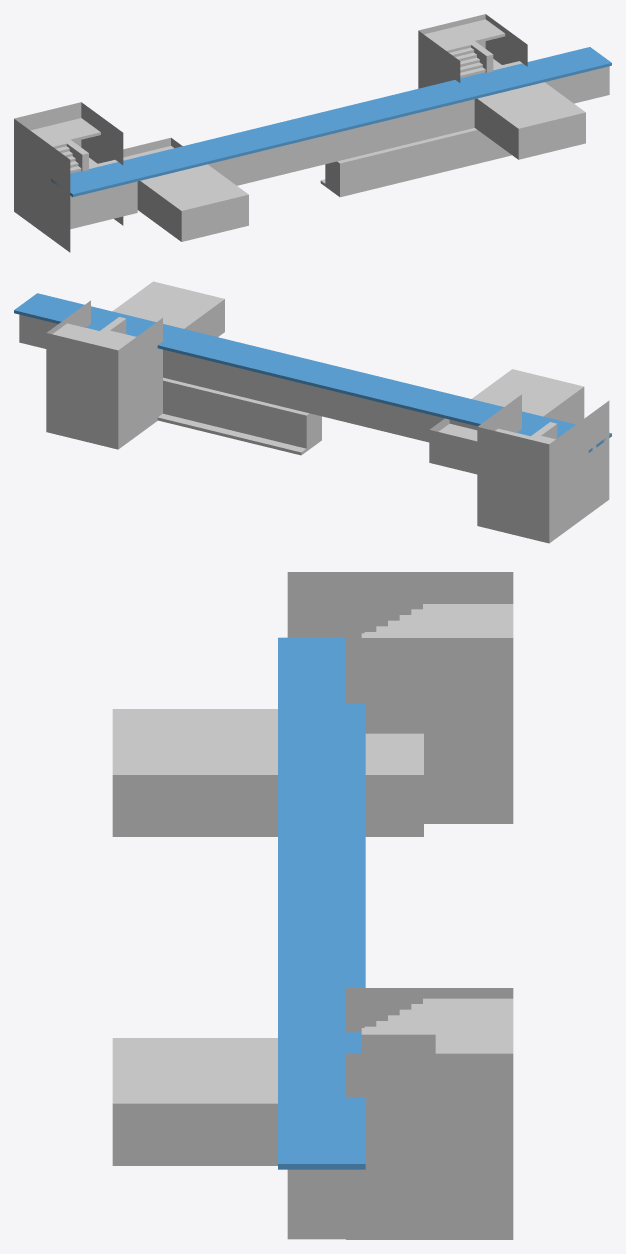
Rendered from School1.fbx.
3 renders of one model, top to bottom at view 1: azimuth 30°, elevation 25°; view 2: azimuth 150°, elevation 25°; view 3: azimuth 270°, elevation 25°, orthographic. The views are drawn at different scales.
Parts seen in each view (by area): view 1: Plane.009, Plane.023, Plane.014, Plane.002, Plane.019, Plane.017, Plane.024, Plane.027, Plane.020, Plane.021, Plane.029, Plane.018 (+10 smaller); view 2: Plane.023, Plane.024, Plane.009, Plane.022, Plane.028, Plane.021, Plane.020, Plane.035, Plane.013, Plane.012, Plane.025, Plane.019 (+6 smaller); view 3: Plane.009, Plane.023, Plane.024, Plane.020, Plane.021, Plane.016, Plane.002, Plane.012, Plane.035, Plane.025, Plane.010, Plane.036 (+3 smaller).
Part boxes in pixels (x1,y1,x2,y2): Plane.009: [51, 47, 611, 196]; Plane.023: [14, 102, 123, 252]; Plane.014: [272, 116, 407, 176]; Plane.002: [181, 148, 272, 241]; Plane.019: [70, 181, 181, 241]; Plane.017: [407, 98, 518, 159]; Plane.024: [418, 14, 527, 88]; Plane.027: [407, 130, 508, 177]; Plane.020: [140, 164, 248, 210]; Plane.021: [477, 82, 585, 128]; Plane.029: [325, 147, 407, 194]; Plane.018: [518, 112, 585, 159]; Plane.023: [477, 394, 609, 543]; Plane.024: [46, 300, 162, 449]; Plane.009: [14, 293, 611, 452]; Plane.022: [163, 349, 444, 442]; Plane.028: [163, 380, 306, 448]; Plane.021: [112, 281, 224, 328]; Plane.020: [472, 369, 583, 416]; Plane.035: [429, 418, 477, 473]; Plane.013: [157, 413, 321, 455]; Plane.012: [46, 323, 132, 350]; Plane.025: [19, 314, 57, 348]; Plane.019: [543, 387, 584, 424]; Plane.009: [278, 637, 365, 1169]; Plane.023: [287, 572, 513, 823]; Plane.024: [346, 988, 513, 1239]; Plane.020: [112, 709, 277, 774]; Plane.021: [112, 1038, 277, 1103]; Plane.016: [112, 1103, 277, 1165]; Plane.002: [112, 775, 277, 836]; Plane.012: [435, 998, 513, 1069]; Plane.035: [365, 717, 423, 836]; Plane.025: [287, 1169, 345, 1231]; Plane.010: [435, 604, 513, 675]; Plane.036: [365, 733, 423, 774].
Size of the model in its own units: 6400 by 1332 by 2060.
